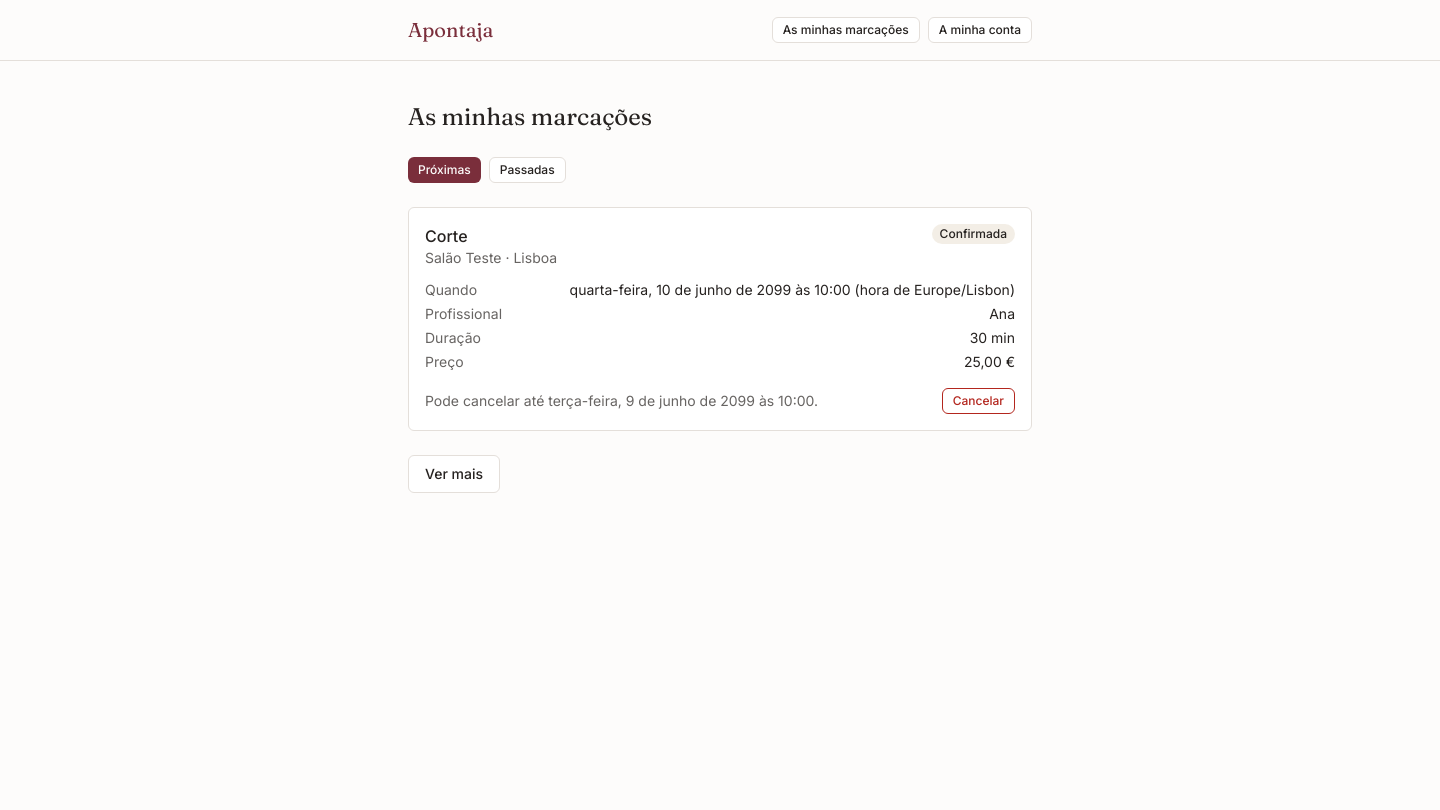
Test: MyAppointmentsView (portail client) › ajoute la page suivante avec « Ver mais »
What coordinates should you click on to do the following:
click the button "Ver mais"
I would click on:
 (454, 474)
Its box is x1=408 y1=455 x2=500 y2=493.
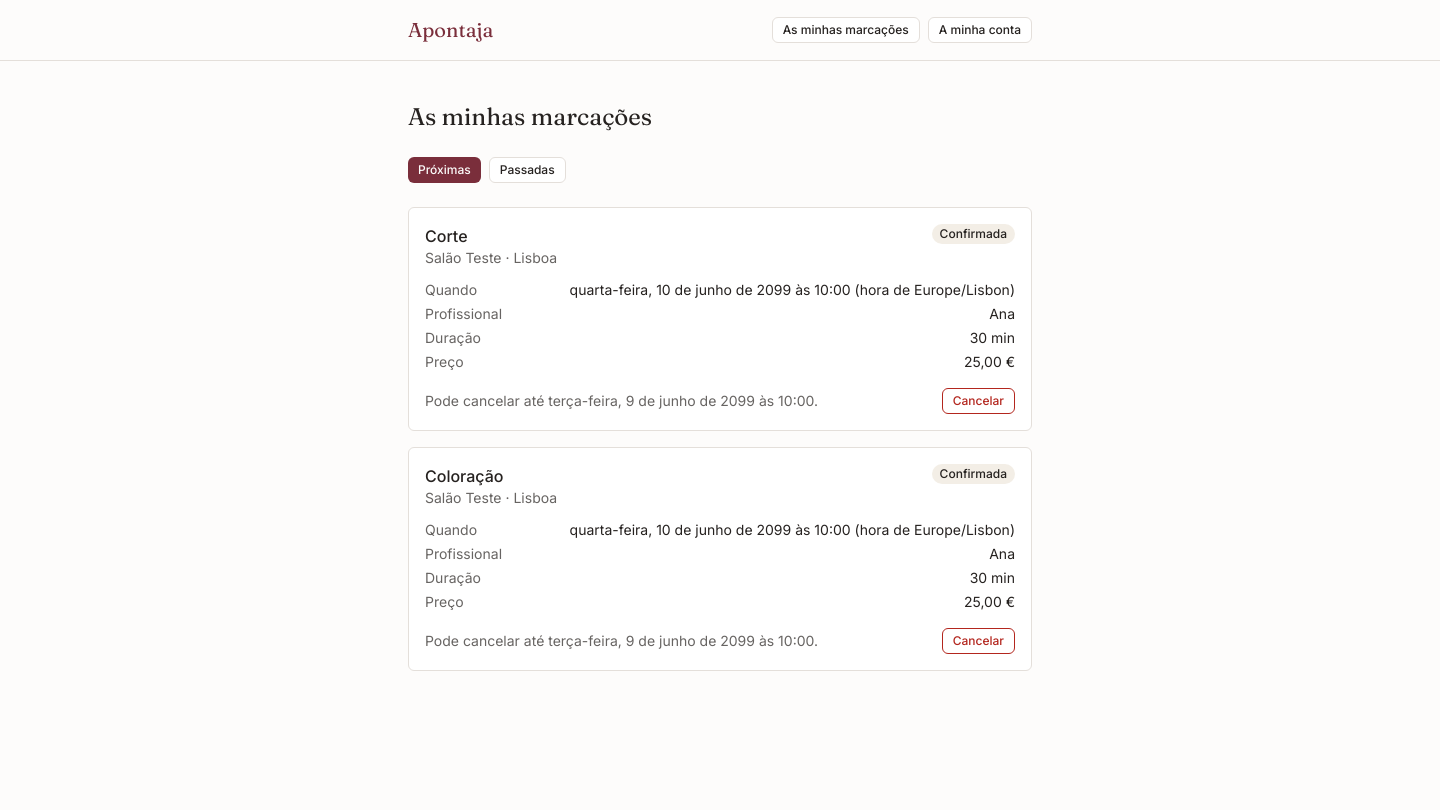
Expected: the text "Corte" is shown, x1=425 y1=226 x2=468 y2=246
Result: the text "Coloração" is shown at x1=425 y1=466 x2=503 y2=486
